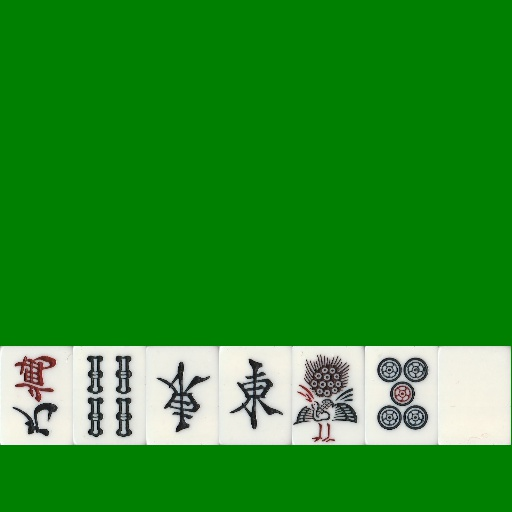1s: (292, 346, 365, 445)
4s: (73, 346, 146, 445)
5p: (365, 346, 438, 445)
9m: (0, 346, 73, 445)
east: (146, 346, 219, 445), (219, 346, 292, 445)
white: (438, 346, 511, 445)
